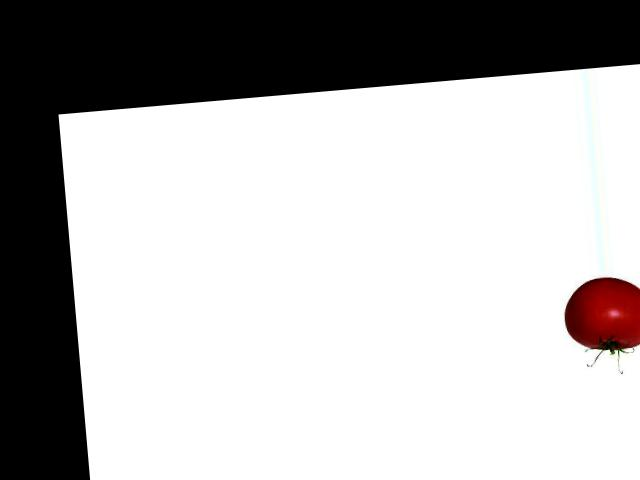tomato: (562, 273, 640, 354)
